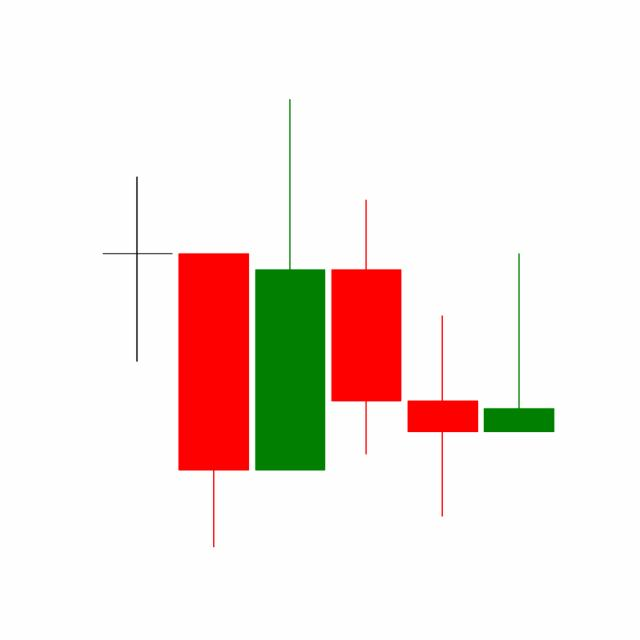Spinning Top: (403, 313, 481, 519)
